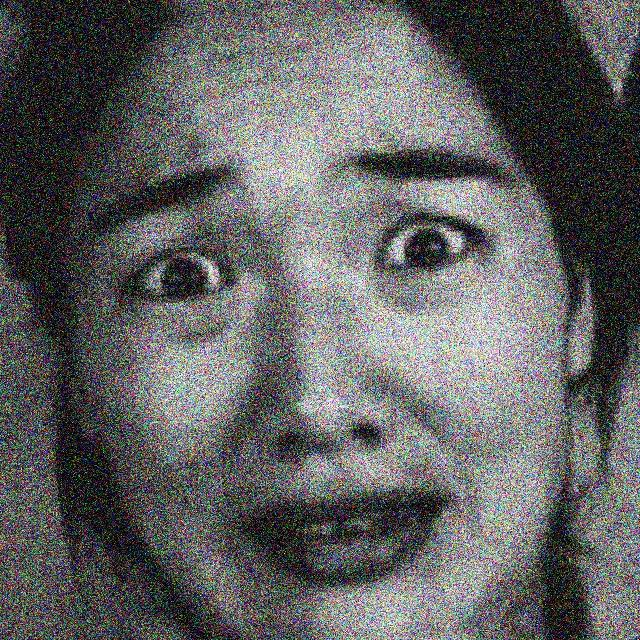fear: (73, 38, 577, 633)
